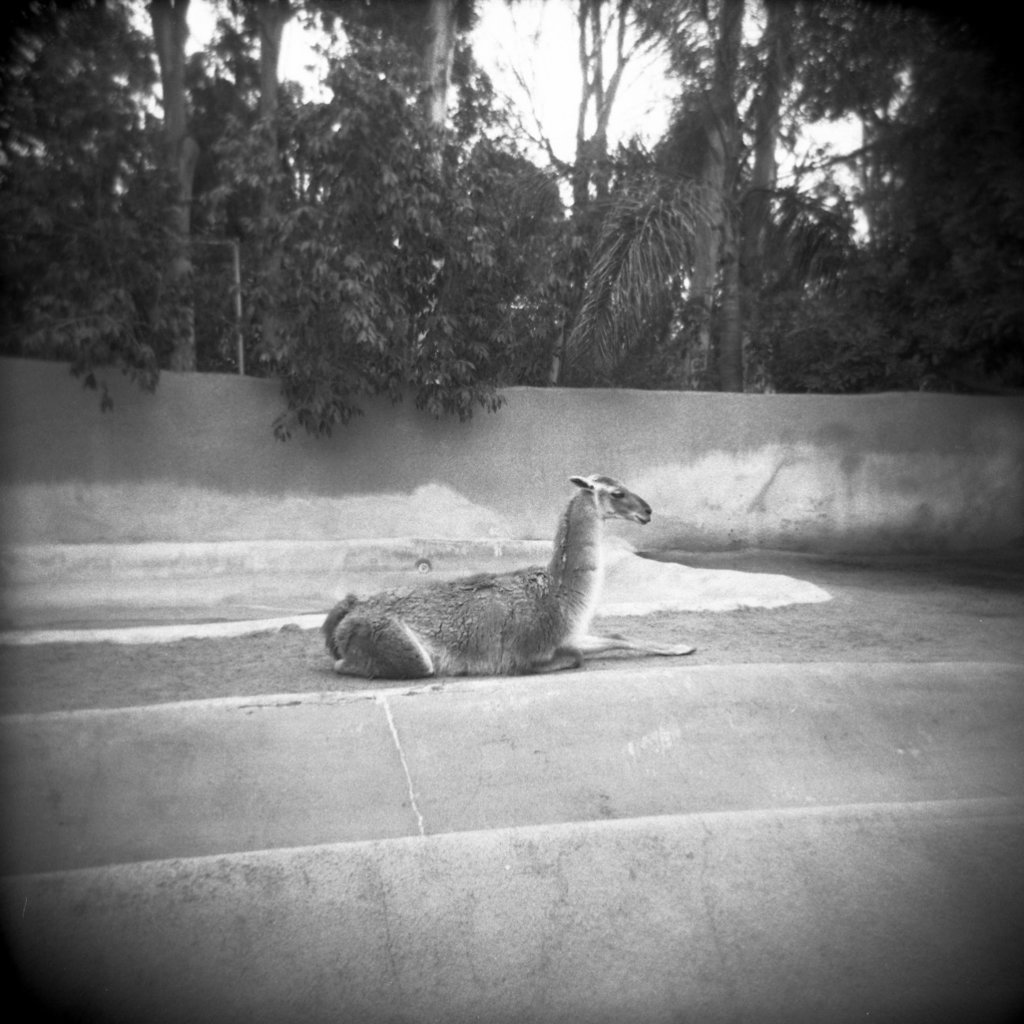Animal: (327, 474, 695, 679)
